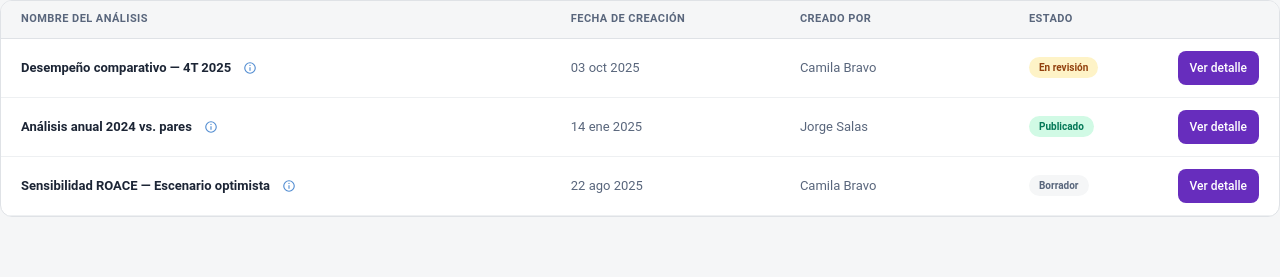
AnalysesTable › expands a row to show its description
Click the button named "Detalle de " at x=250, y=68, box 237,54 -> 263,80
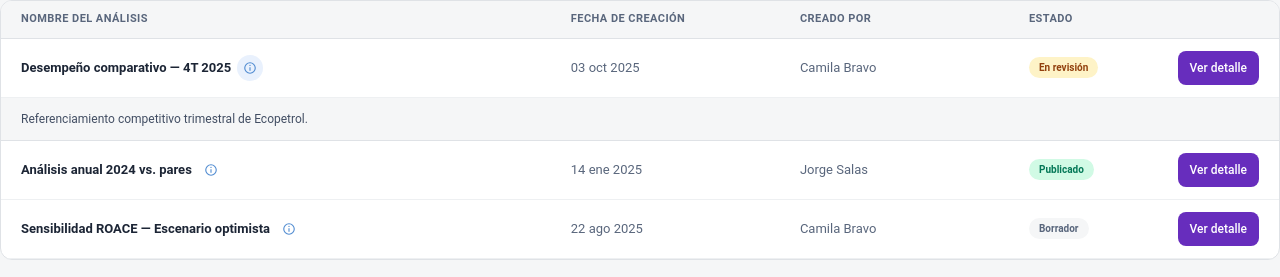
Now the text "Referenciamiento competitivo trimestral de Ecopetrol." is shown, box 21,112 -> 308,126
